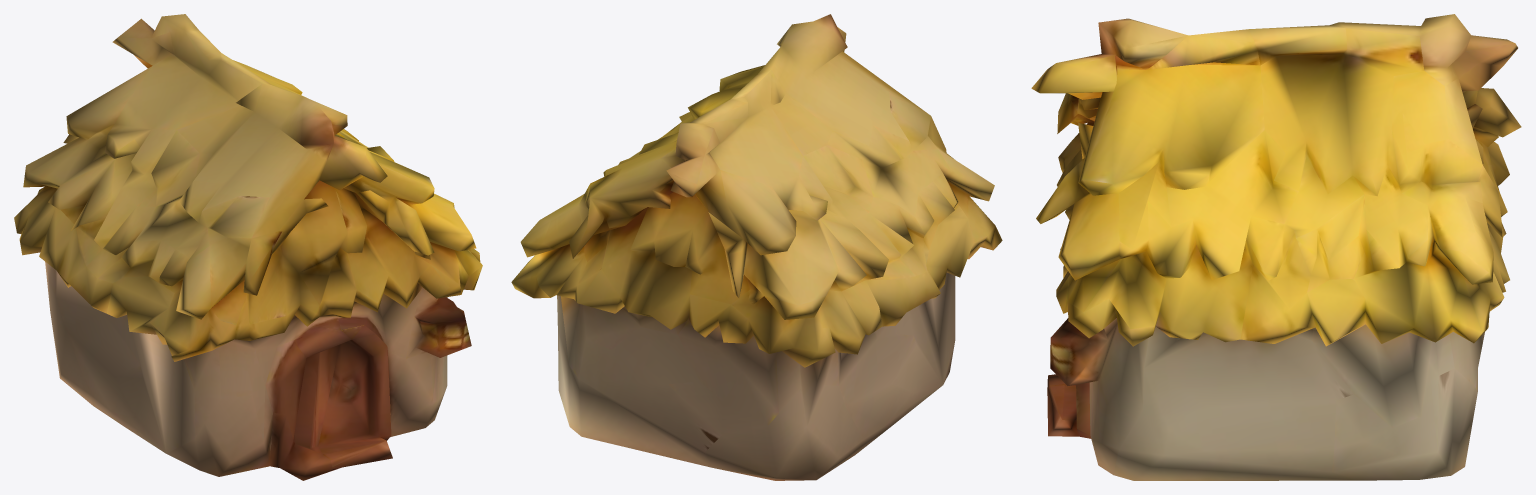
File: hut.glb
The picture shows the model from 3 angles, left to right: view 1: azimuth 30°, elevation 25°; view 2: azimuth 150°, elevation 25°; view 3: azimuth 270°, elevation 25°; orthographic projection. The views are drawn at different scales.
Visible parts, largest first — view 1: tripo_node_6a567bb0-5410-4972-a279-85e88c37fbbe; view 2: tripo_node_6a567bb0-5410-4972-a279-85e88c37fbbe; view 3: tripo_node_6a567bb0-5410-4972-a279-85e88c37fbbe.
Part boxes in pixels (x1,y1,x2,y2): tripo_node_6a567bb0-5410-4972-a279-85e88c37fbbe: [14, 14, 482, 480]; tripo_node_6a567bb0-5410-4972-a279-85e88c37fbbe: [511, 14, 1002, 480]; tripo_node_6a567bb0-5410-4972-a279-85e88c37fbbe: [1031, 14, 1521, 480].
Size of the model in its own units: 0.9306 by 0.8788 by 0.9867.
1 material, 1 textured.
